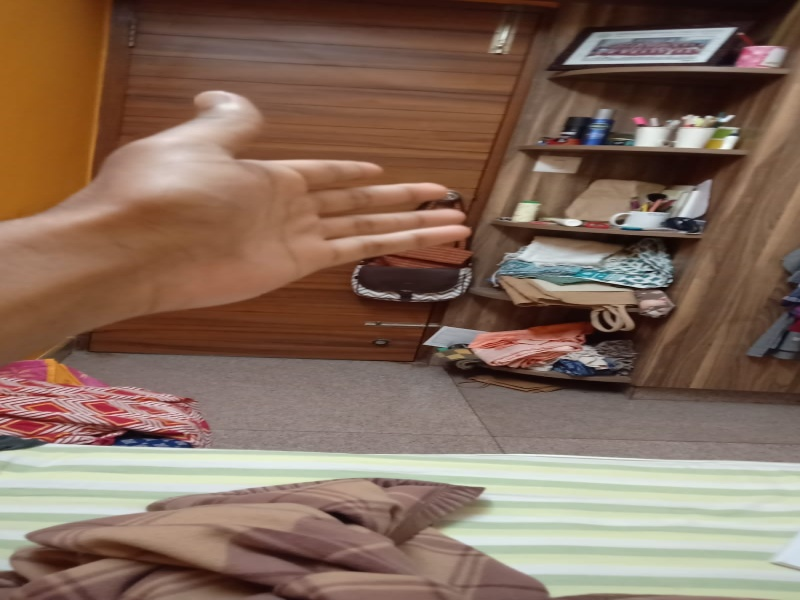Hand: (61, 81, 473, 339)
